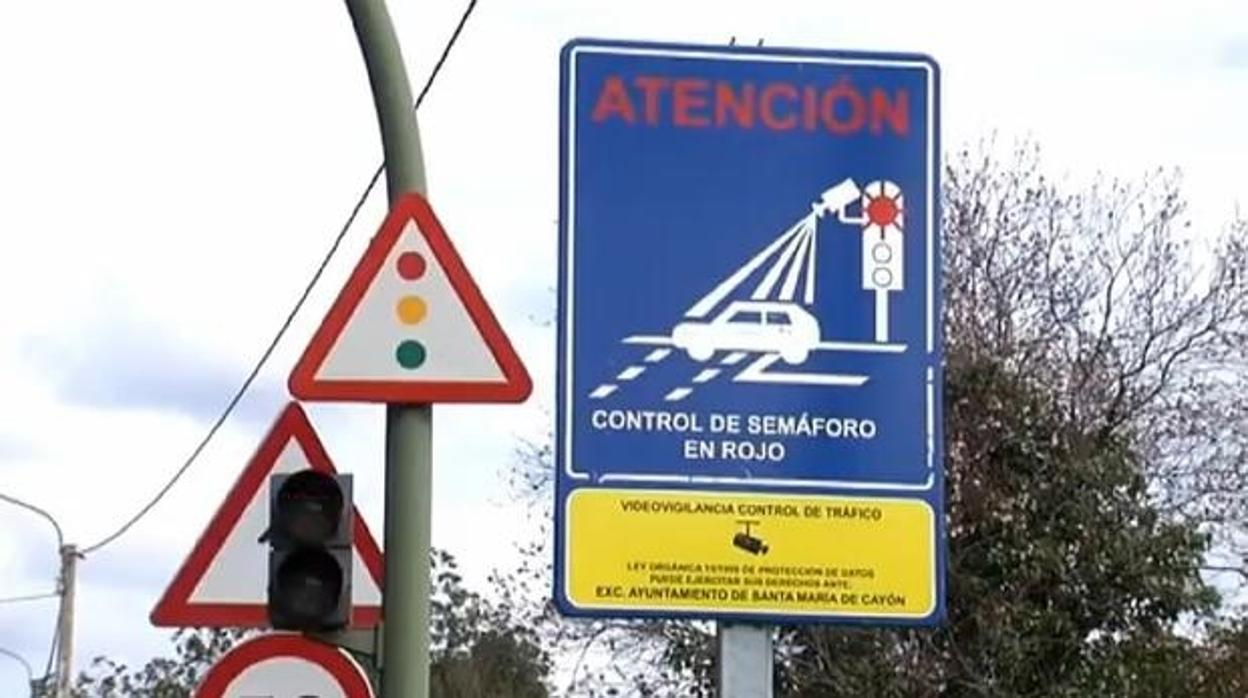Arbol: (772, 267, 1230, 696)
Cartel: (562, 31, 949, 630), (149, 400, 395, 638), (287, 191, 538, 413)
Poste: (362, 18, 444, 695)
Semaforo: (263, 465, 359, 633)
